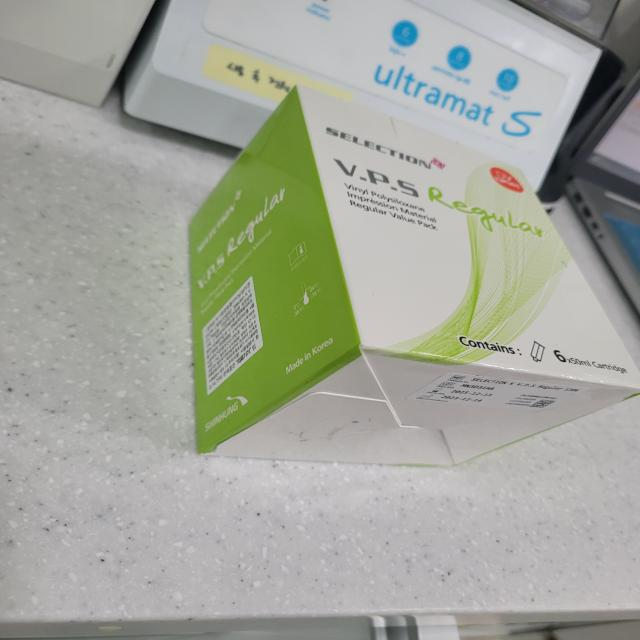impression: (171, 70, 640, 524)
